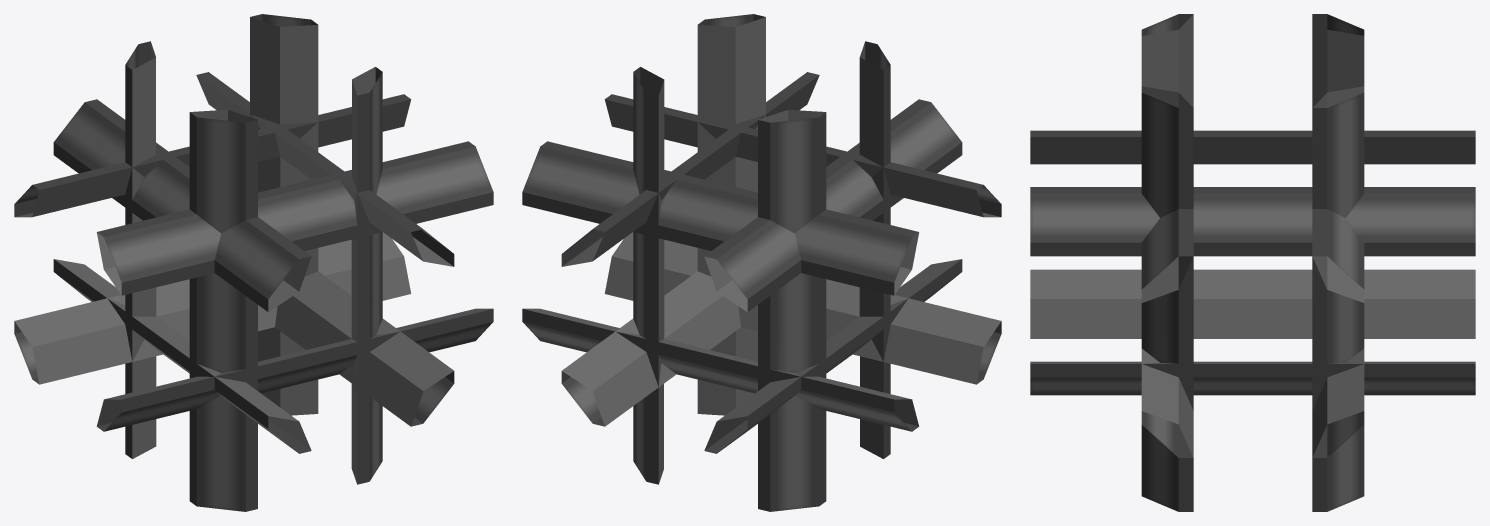
Rendered from pipe_basic.obj.
The picture shows the model from 3 angles, left to right: view 1: azimuth 30°, elevation 25°; view 2: azimuth 150°, elevation 25°; view 3: azimuth 270°, elevation 25°; orthographic projection. The views are drawn at different scales.
Parts seen in each view (by area): view 1: CENTER, WEST, SOUTH, DOWN, EAST, NORTH, UP; view 2: CENTER, SOUTH, WEST, UP, EAST, NORTH, DOWN; view 3: CENTER, UP, DOWN, SOUTH, EAST, NORTH.
Part boxes in pixels (<box>): CENTER: <box>125,124,382,393</box>; WEST: <box>14,154,245,431</box>; SOUTH: <box>125,14,382,233</box>; DOWN: <box>196,176,454,453</box>; EAST: <box>280,94,493,352</box>; NORTH: <box>125,324,382,511</box>; UP: <box>53,72,279,323</box>; CENTER: <box>633,124,890,393</box>; SOUTH: <box>633,14,890,233</box>; WEST: <box>770,154,1001,431</box>; UP: <box>561,177,819,453</box>; EAST: <box>522,94,735,352</box>; NORTH: <box>633,324,890,511</box>; DOWN: <box>736,72,962,323</box>; CENTER: <box>1141,130,1364,395</box>; UP: <box>1327,130,1475,395</box>; DOWN: <box>1030,130,1178,395</box>; SOUTH: <box>1141,14,1364,217</box>; EAST: <box>1141,209,1364,457</box>; NORTH: <box>1141,377,1364,511</box>.
Size of the model in its own units: 1 by 1 by 1.
